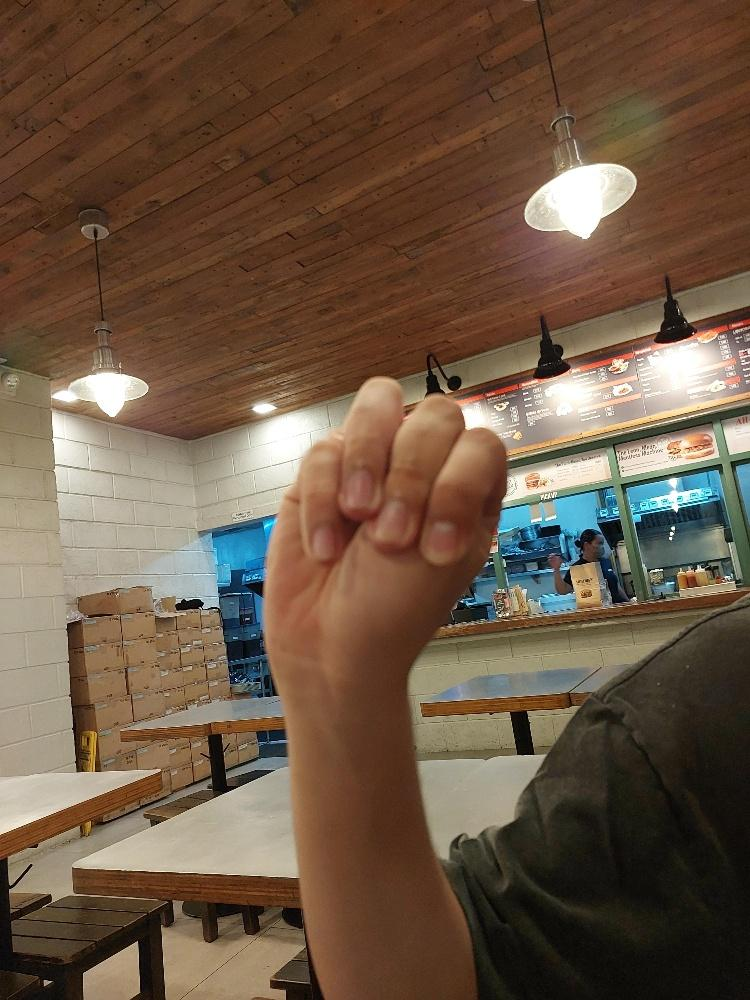m: (260, 374, 510, 676)
